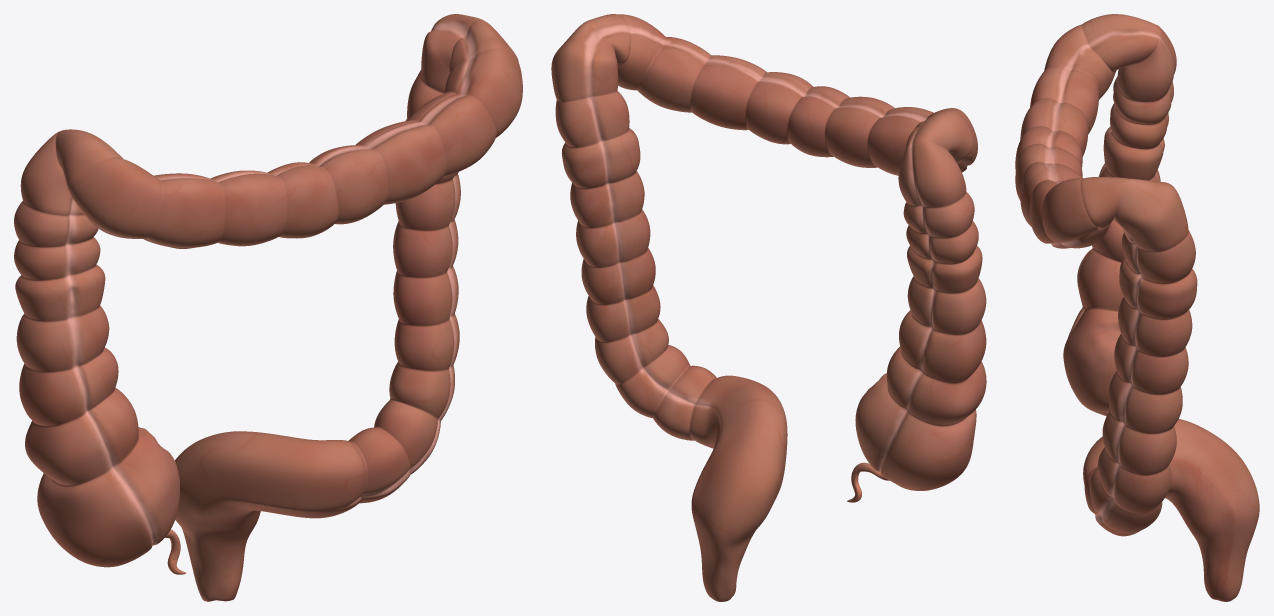
File: intestine.glb
3 renders of one model, left to right at view 1: azimuth 30°, elevation 25°; view 2: azimuth 150°, elevation 25°; view 3: azimuth 270°, elevation 25°, orthographic. The views are drawn at different scales.
Visible parts, largest first — view 1: Tjocktarm; view 2: Tjocktarm; view 3: Tjocktarm.
Part boxes in pixels (x1,y1,x2,y2): Tjocktarm: [14, 14, 522, 601]; Tjocktarm: [551, 14, 986, 601]; Tjocktarm: [1015, 14, 1259, 601].
Size of the model in its own units: 0.0409 by 0.0465 by 0.0202.
1 material, 1 textured.
